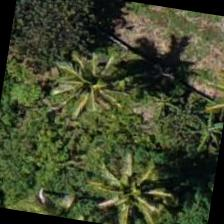Kelapa_Sawit: (41, 29, 144, 132), (75, 134, 179, 223)
